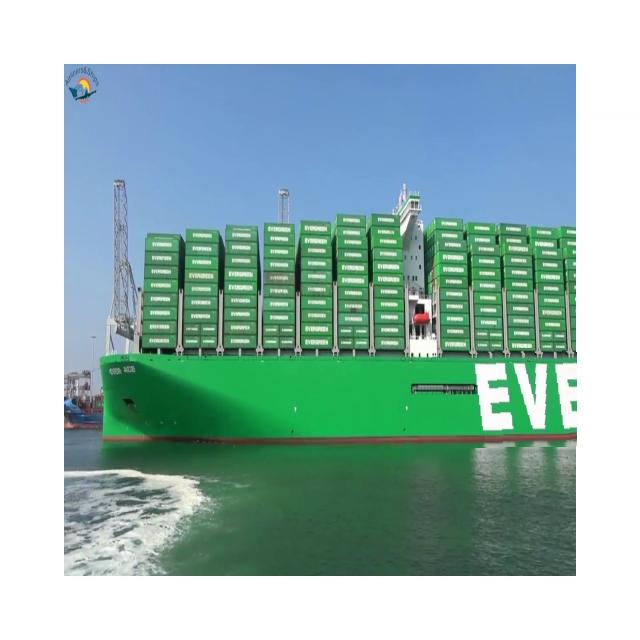OCR: (460, 348, 577, 448), (103, 364, 140, 391)
